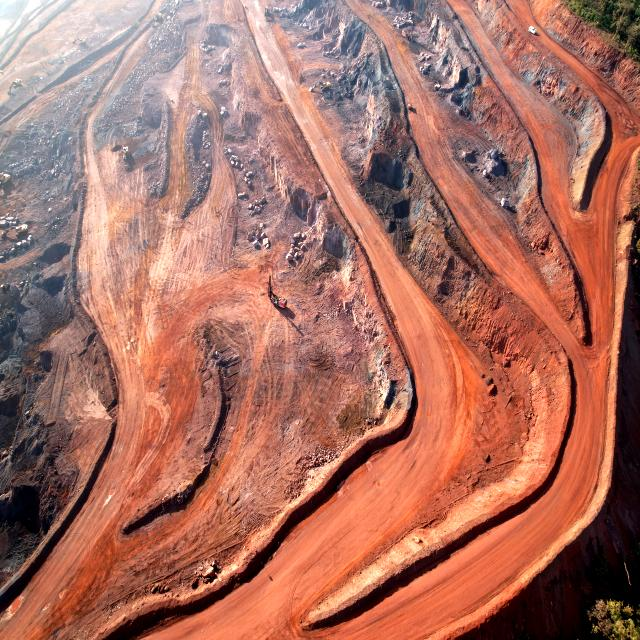Blast rig: (267, 274, 288, 310), (402, 20, 416, 42)
Excavator: (2, 224, 28, 238), (309, 79, 331, 93), (122, 145, 133, 170), (7, 77, 20, 95), (73, 34, 87, 49), (0, 172, 11, 190), (153, 13, 163, 29), (264, 6, 272, 24)
car: (529, 28, 535, 34)
person: (536, 29, 537, 33), (536, 27, 537, 31)
